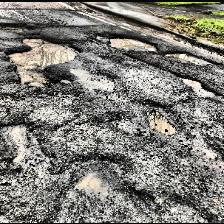pothole: (4, 34, 84, 86), (1, 117, 32, 163), (146, 108, 176, 135), (108, 34, 158, 50), (165, 48, 211, 64), (1, 18, 36, 30)
